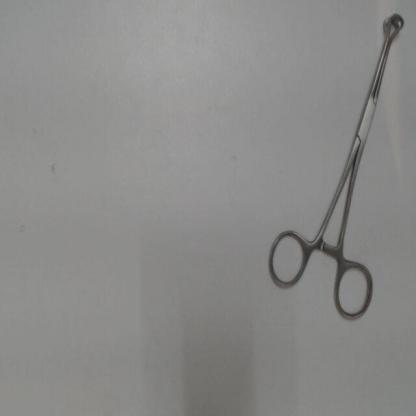Babcock Tissue Forceps: (265, 6, 407, 328)
